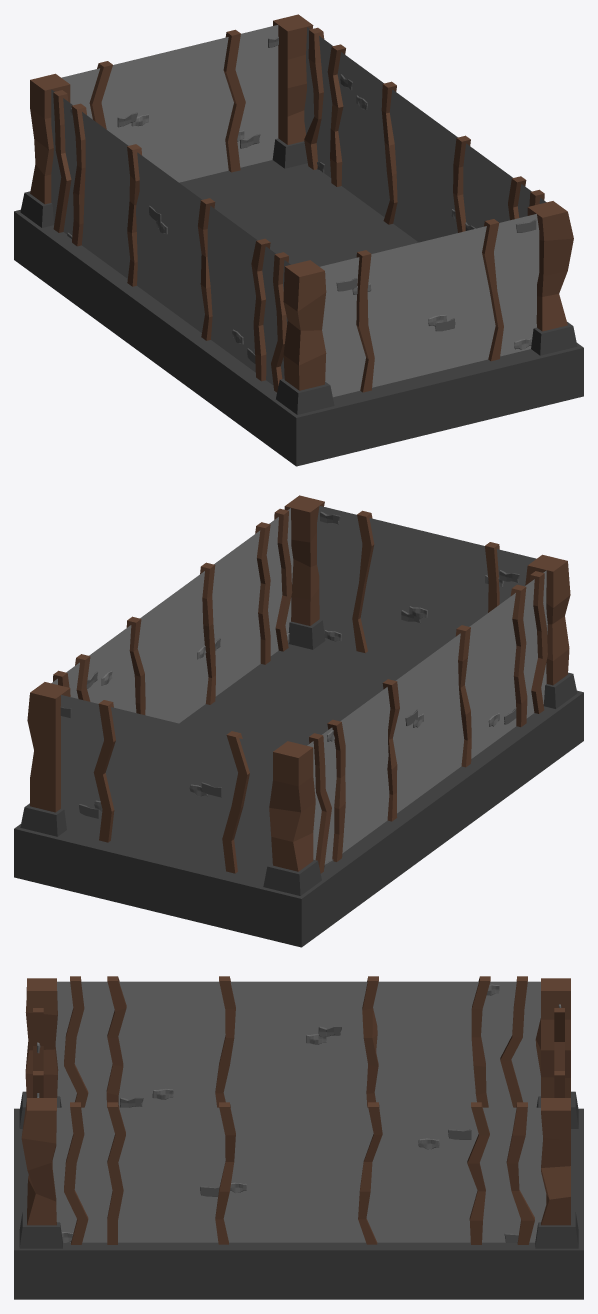
The model's file is House01_Foundation.fbx.
3 views of the same model, one above another, from view 1: azimuth 30°, elevation 25°; view 2: azimuth 150°, elevation 25°; view 3: azimuth 270°, elevation 25° (orthographic).
Visible parts, largest first — view 1: House001_Foundation; view 2: House001_Foundation; view 3: House001_Foundation.
Part boxes in pixels (x1,y1,x2,y2): House001_Foundation: [14, 14, 583, 466]; House001_Foundation: [14, 495, 583, 947]; House001_Foundation: [14, 976, 583, 1299].
Size of what is drawn, in the model's own units: 900 by 554 by 1530.
